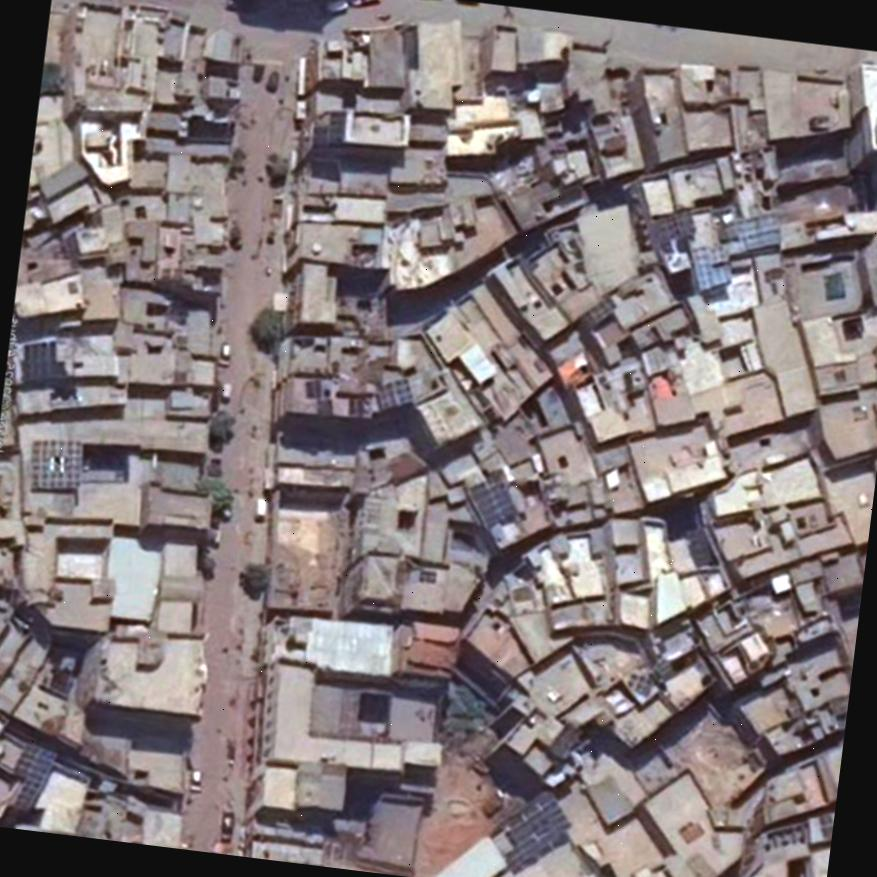Solarpanel: (491, 788, 566, 872), (1, 742, 55, 811), (30, 440, 80, 488), (469, 482, 519, 527), (691, 245, 732, 288), (645, 209, 694, 243), (21, 340, 55, 380), (377, 379, 413, 409)
